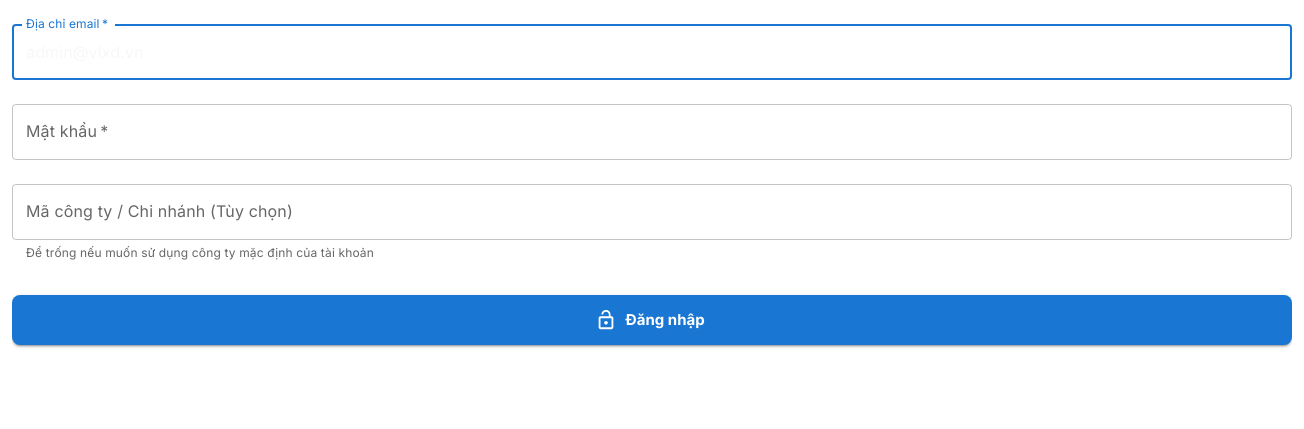
Test case: <LoginForm /> › displays localized error message when user is USER_SUSPENDED
Type "blocked@vlxd.vn" into the field labelled "Địa chỉ email *" at (652, 52), box [12,24,1292,80]
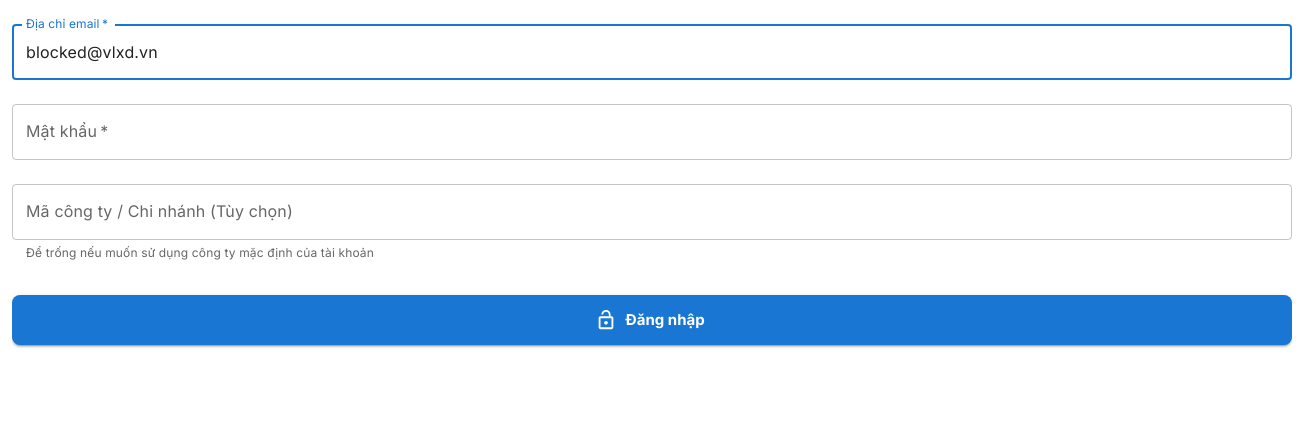
Type "Password123" into the password field labelled "Mật khẩu *" at (652, 132), box [12,104,1292,160]
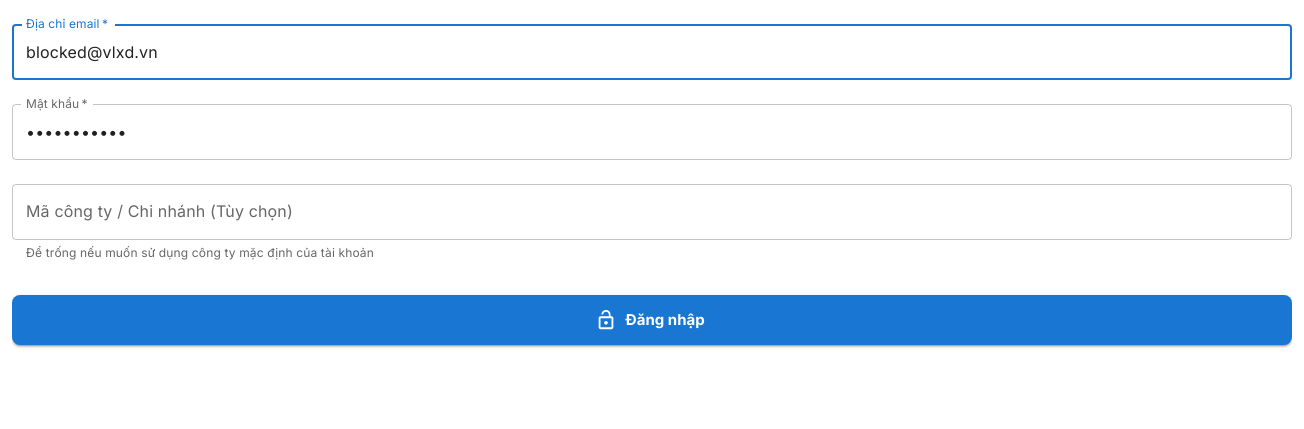
Click the button "Đăng nhập" at (652, 320), box [12,295,1292,345]
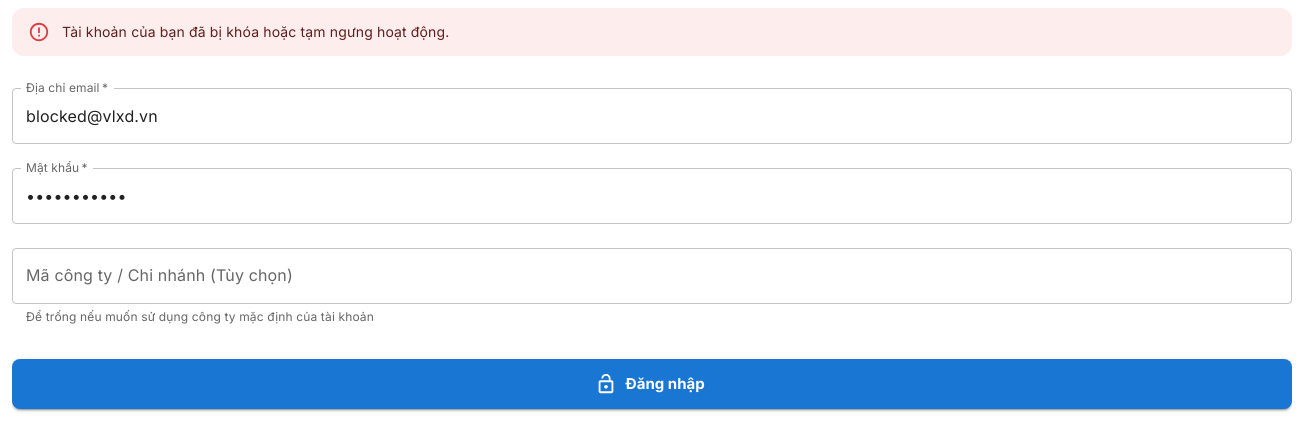
Expected: the text "Tài khoản của bạn đã bị khóa hoặc tạm ngưng hoạt động." is shown, [62,23,449,40]
